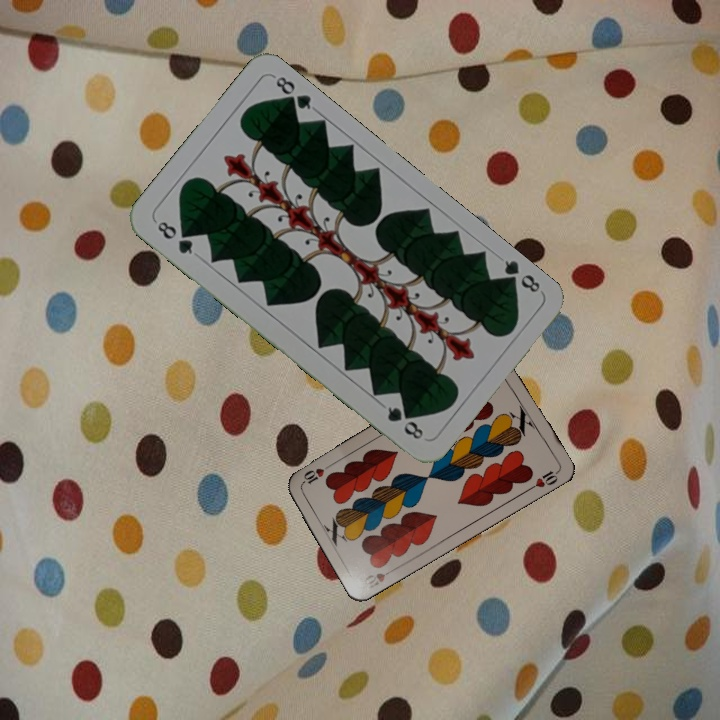G8: (497, 255, 543, 296), (153, 217, 196, 257)
H10: (359, 565, 398, 593)
